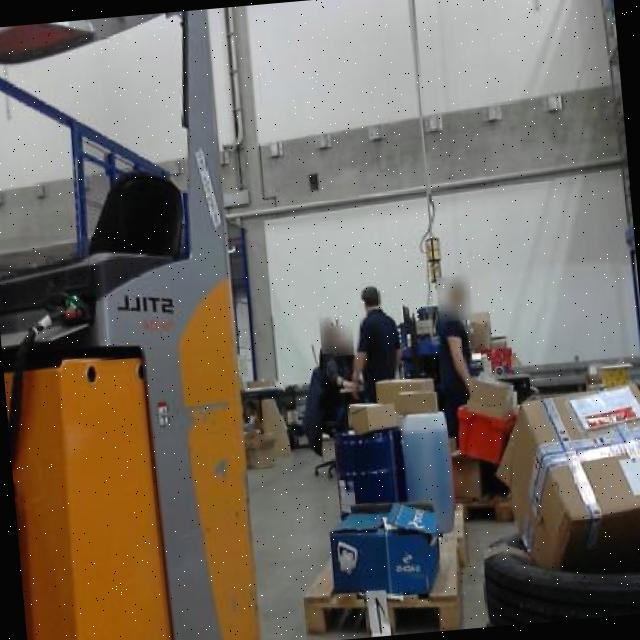pallet: (280, 580, 469, 640)
